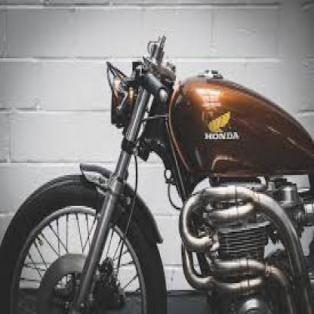Motocicleta: (0, 35, 313, 312)
